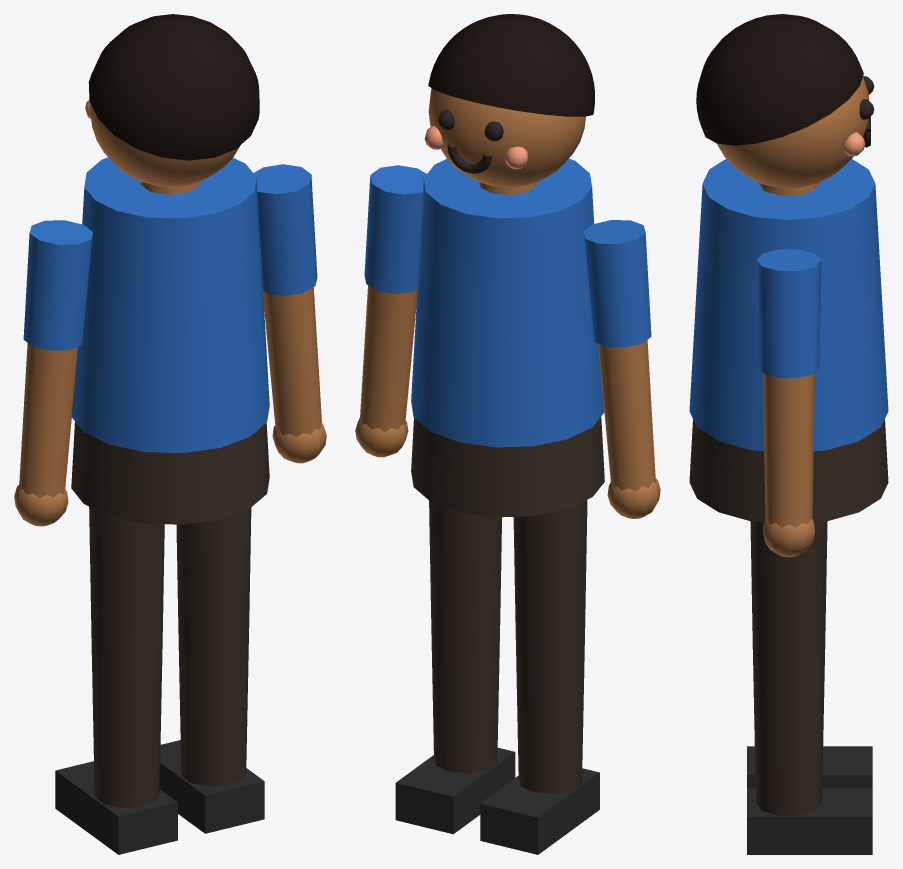
File: person_2f74d0.fbx
The picture shows the model from 3 angles, left to right: view 1: azimuth 30°, elevation 25°; view 2: azimuth 150°, elevation 25°; view 3: azimuth 270°, elevation 25°; orthographic projection. The views are drawn at different scales.
Parts seen in each view (by area): view 1: M__person_2f74d0-body, M__person_2f74d0-shinL, M__person_2f74d0-armL, M__person_2f74d0-shinR, M__person_2f74d0-armR, M__person_2f74d0-legL, M__person_2f74d0-legR; view 2: M__person_2f74d0-body, M__person_2f74d0-shinL, M__person_2f74d0-shinR, M__person_2f74d0-armL, M__person_2f74d0-armR, M__person_2f74d0-legL, M__person_2f74d0-legR; view 3: M__person_2f74d0-body, M__person_2f74d0-shinR, M__person_2f74d0-armR, M__person_2f74d0-legR, M__person_2f74d0-shinL.
Part boxes in pixels (bbox=[...]): M__person_2f74d0-body: bbox=[71, 14, 269, 524]; M__person_2f74d0-shinL: bbox=[55, 639, 177, 854]; M__person_2f74d0-armL: bbox=[14, 220, 93, 526]; M__person_2f74d0-shinR: bbox=[159, 618, 264, 833]; M__person_2f74d0-armR: bbox=[253, 164, 326, 463]; M__person_2f74d0-legL: bbox=[89, 506, 164, 656]; M__person_2f74d0-legR: bbox=[176, 507, 251, 635]; M__person_2f74d0-body: bbox=[411, 14, 604, 517]; M__person_2f74d0-shinL: bbox=[480, 629, 599, 854]; M__person_2f74d0-shinR: bbox=[395, 608, 515, 834]; M__person_2f74d0-armL: bbox=[583, 220, 660, 518]; M__person_2f74d0-armR: bbox=[355, 165, 426, 457]; M__person_2f74d0-legL: bbox=[513, 500, 587, 646]; M__person_2f74d0-legR: bbox=[429, 500, 501, 625]; M__person_2f74d0-body: bbox=[689, 14, 888, 522]; M__person_2f74d0-shinR: bbox=[747, 651, 872, 854]; M__person_2f74d0-armR: bbox=[756, 249, 821, 557]; M__person_2f74d0-legR: bbox=[750, 521, 827, 665]; M__person_2f74d0-shinL: bbox=[747, 746, 872, 788].
Size of the model in its own units: 0.67 by 1.68 by 0.38.
